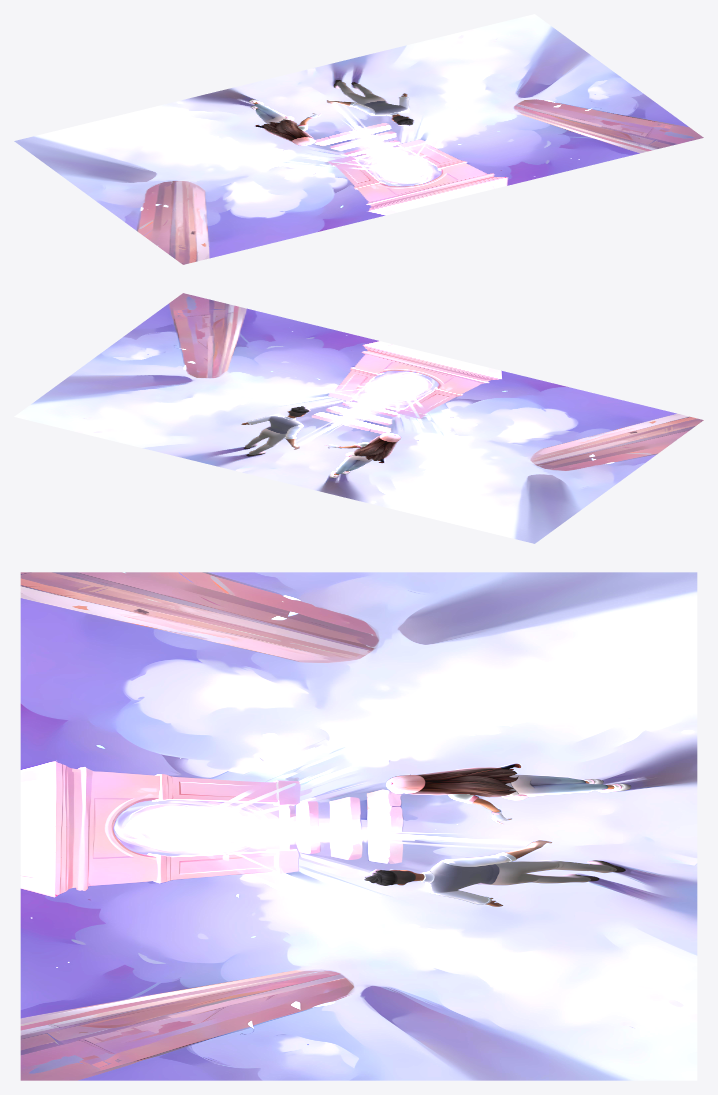
The model's file is cs_open.glb.
3 renders of one model, top to bottom at view 1: azimuth 30°, elevation 25°; view 2: azimuth 150°, elevation 25°; view 3: azimuth 270°, elevation 25°, orthographic. The views are drawn at different scales.
Parts seen in each view (by area): view 1: 01; view 2: 01; view 3: 01.
Part boxes in pixels (bbox=[...]): 01: bbox=[14, 14, 703, 264]; 01: bbox=[14, 293, 703, 543]; 01: bbox=[20, 572, 697, 1080].
Size of the model in its own units: 38.4 by 0 by 21.6.
Materials: 16 (16 with a texture image).
